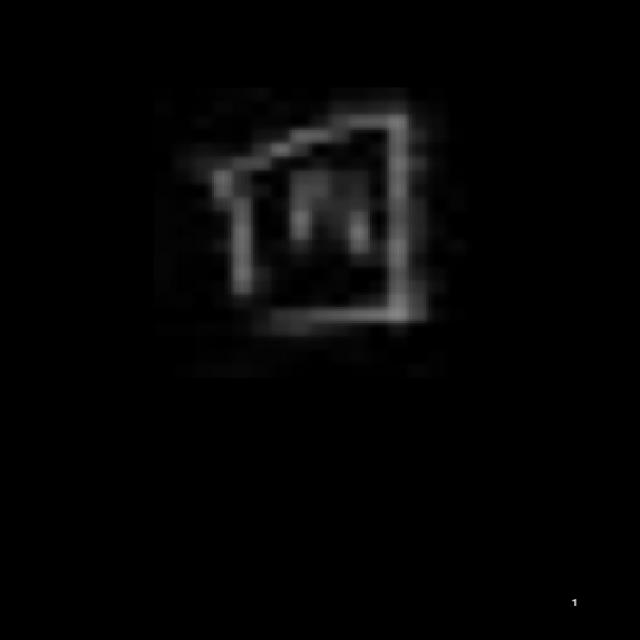4 -four-: (191, 95, 436, 354)
